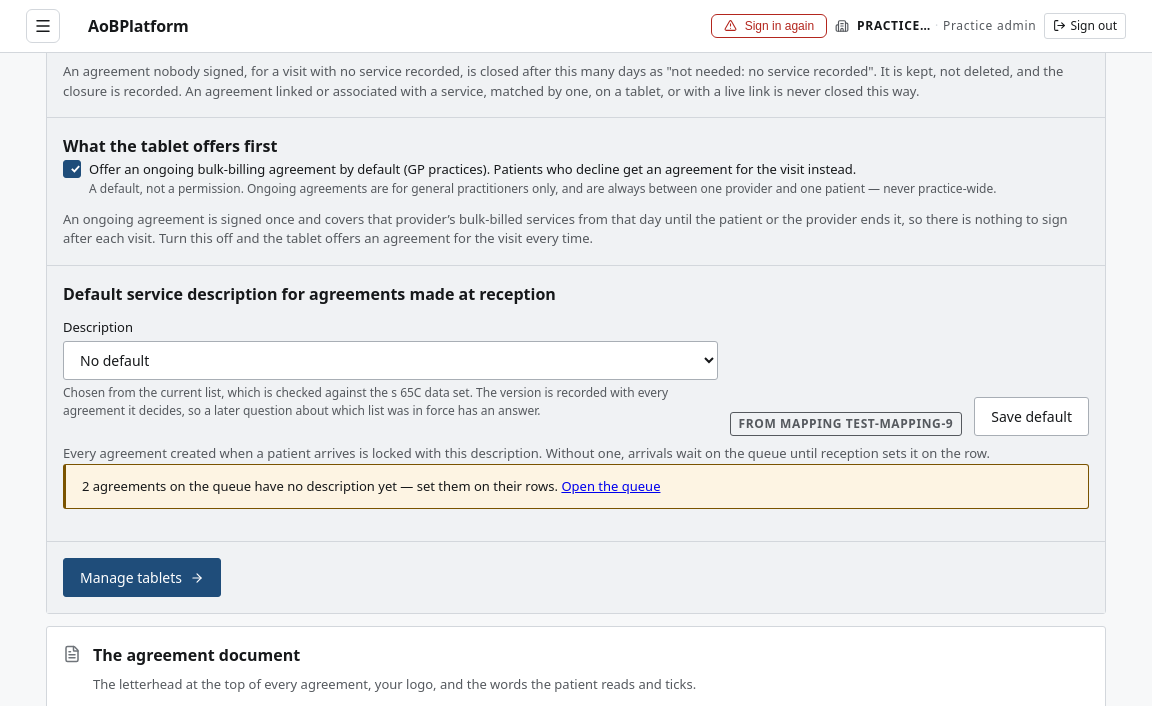
Test: the default service description › default_d6a_shows_how_many_rows_still_need_one
The width and height of the screenshot is (1152, 706).
(page scrolled)
Select "Zed sample attendance" in the dropdown with test id "channels-d6a" at (390, 360), box [63,341,718,380]
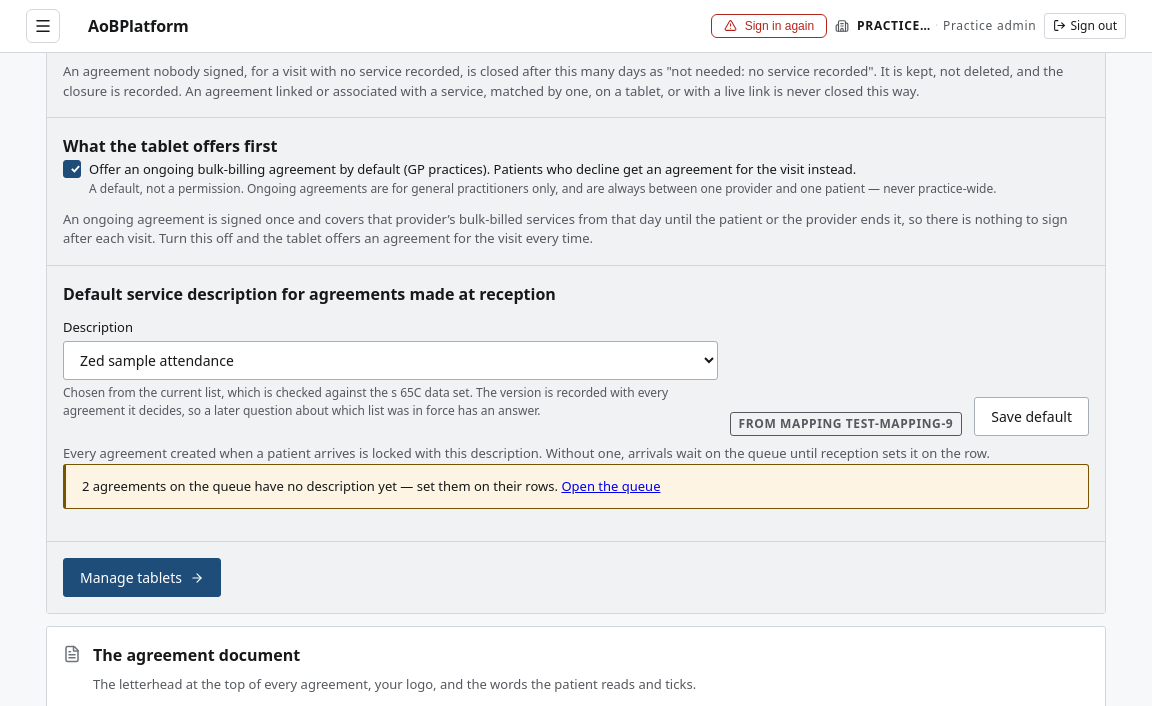
Click the button with test id "channels-d6a-save" at (1032, 416), box [974,397,1089,436]
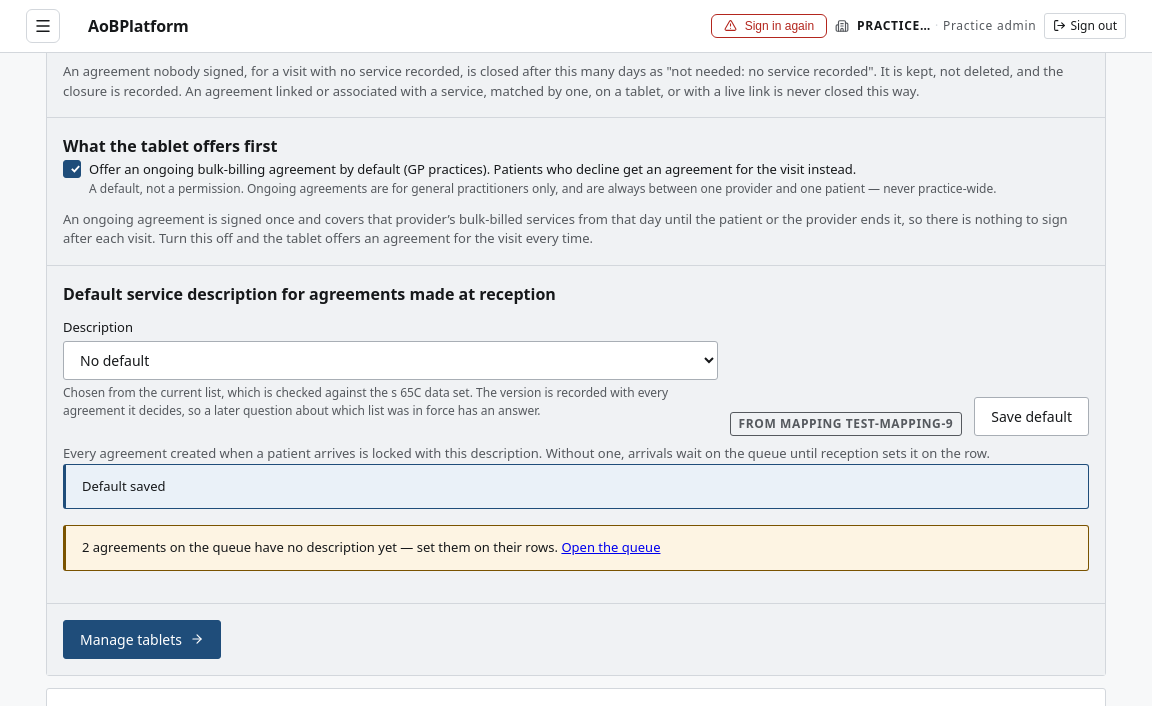
Now the text "Default saved" is shown, box [82,476,166,494]
